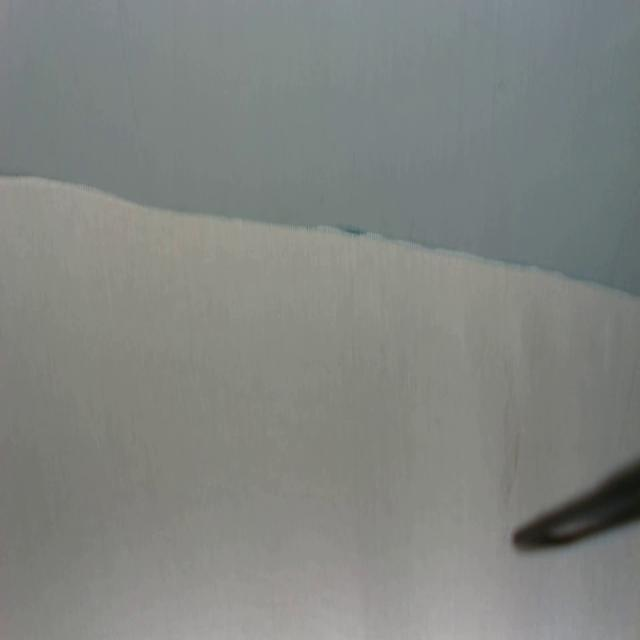crease: (113, 0, 141, 127)
